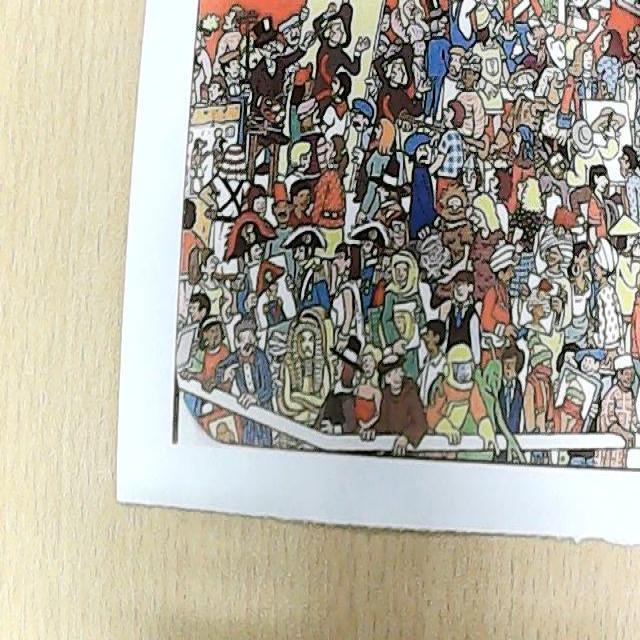waldo: (381, 207, 408, 250)
